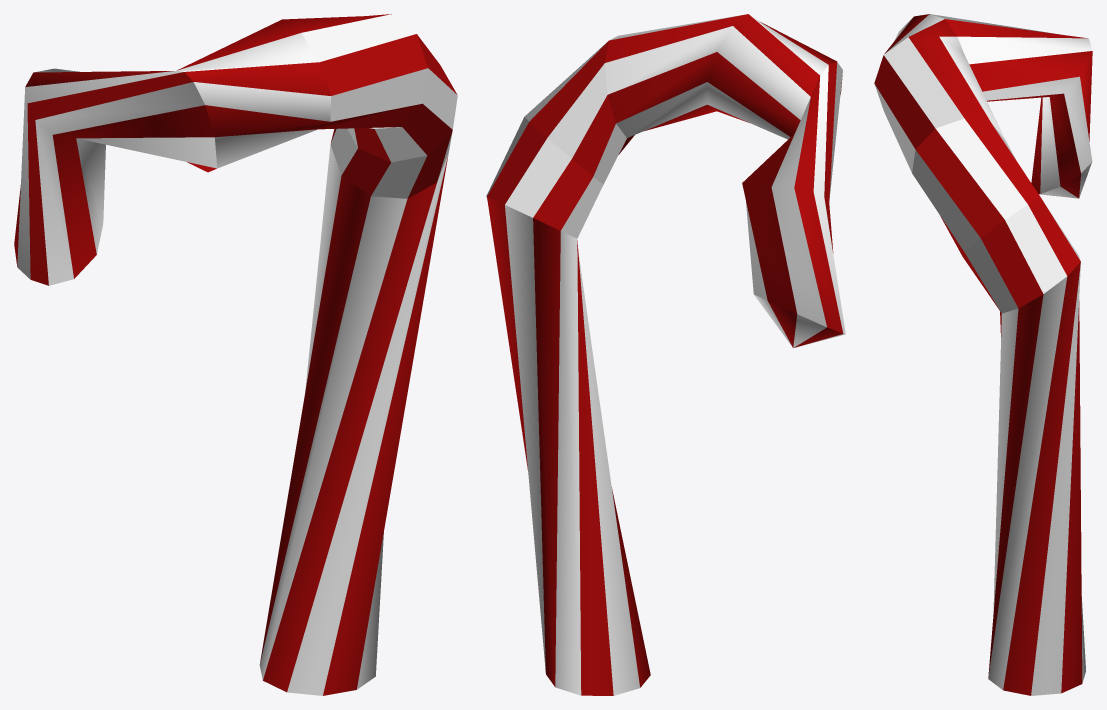
The model's file is CC_warped1.fbx.
3 renders of one model, left to right at view 1: azimuth 30°, elevation 25°; view 2: azimuth 150°, elevation 25°; view 3: azimuth 270°, elevation 25°, orthographic. The views are drawn at different scales.
Visible parts, largest first — view 1: pCylinder1; view 2: pCylinder1; view 3: pCylinder1.
Part boxes in pixels (box(x1,y1,x2,y2)): pCylinder1: box(14, 14, 457, 695); pCylinder1: box(486, 14, 845, 695); pCylinder1: box(874, 14, 1092, 695).
Size of the model in its own units: 15.28 by 25.36 by 8.37.
Materials: 1 (1 with a texture image).
